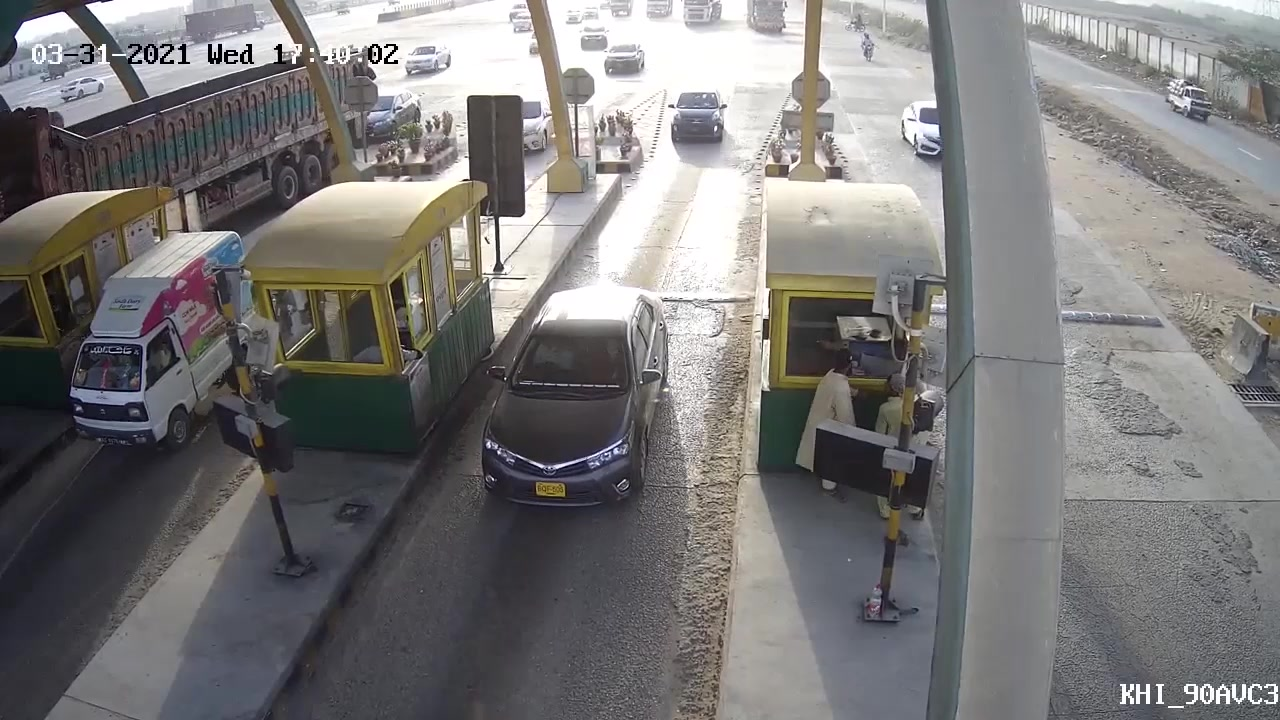F1: (474, 278, 676, 520), (655, 86, 732, 153)
